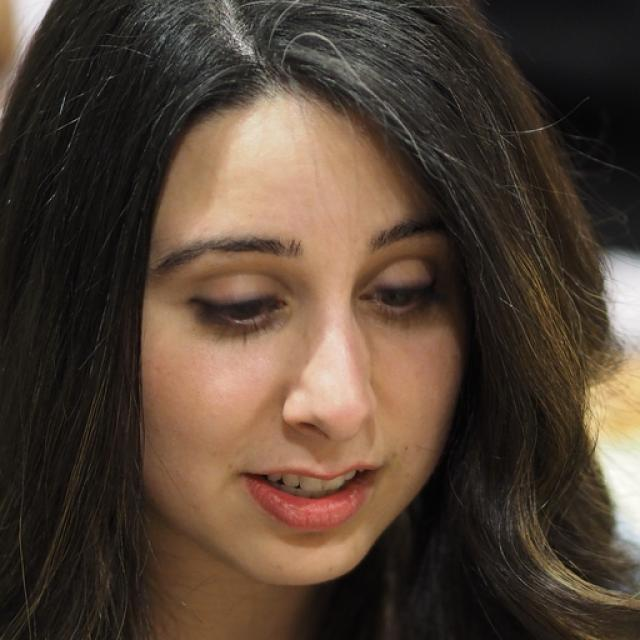sad: (136, 95, 475, 586)
